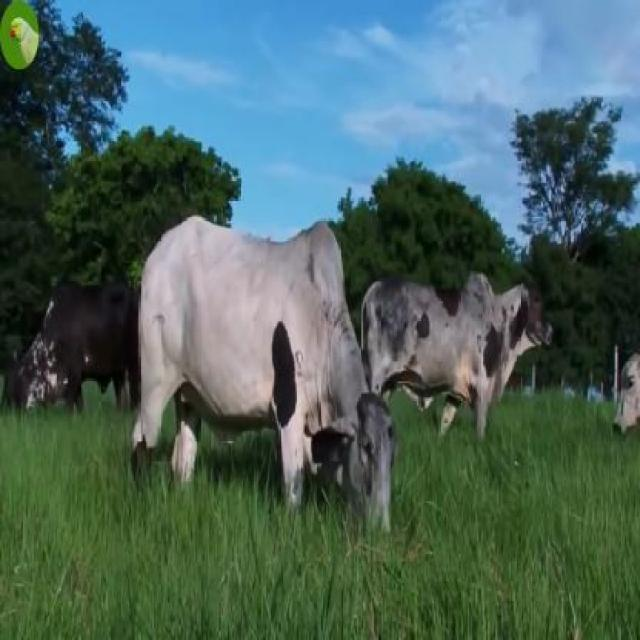Cow: (132, 210, 394, 524), (363, 272, 552, 445), (1, 277, 136, 418)
